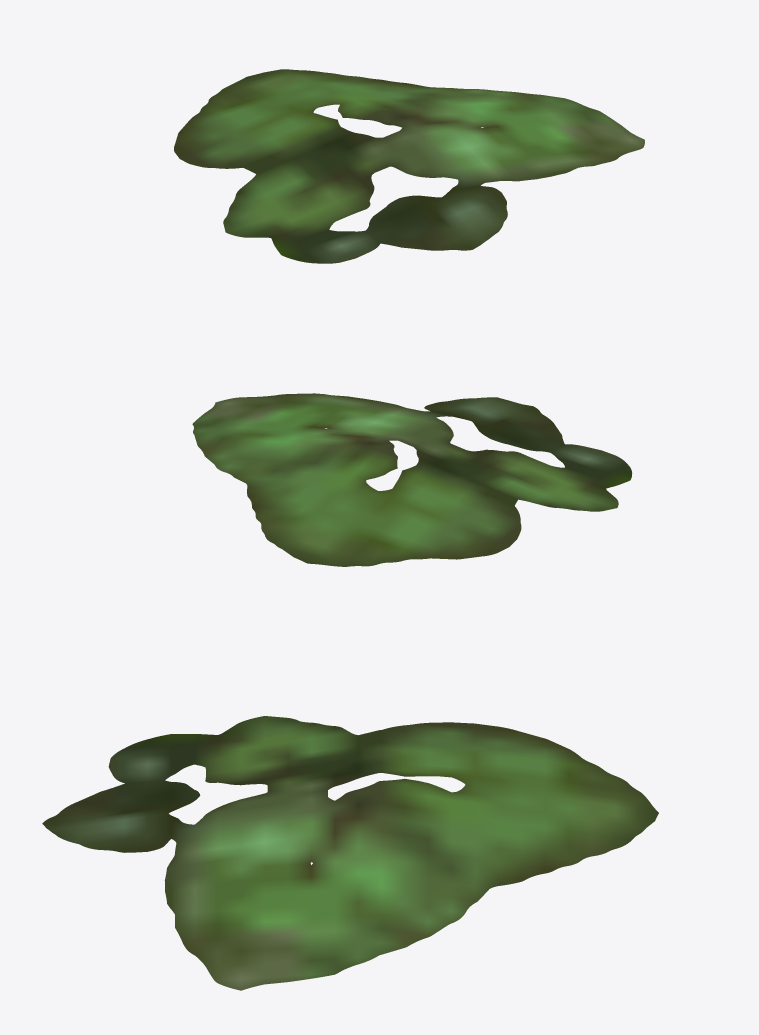
The model's file is frst_ptch_clover_green_sm_l0.fbx.
3 renders of one model, top to bottom at view 1: azimuth 30°, elevation 25°; view 2: azimuth 150°, elevation 25°; view 3: azimuth 270°, elevation 25°, orthographic. The views are drawn at different scales.
Visible parts, largest first — view 1: mesh_node; view 2: mesh_node; view 3: mesh_node.
Part boxes in pixels (bbox=[...]): mesh_node: bbox=[174, 69, 644, 263]; mesh_node: bbox=[192, 393, 632, 566]; mesh_node: bbox=[42, 716, 658, 990].
Bounding box in the file's own units: 0.4502 × 0.0524 × 0.4502.
1 material, 1 textured.
